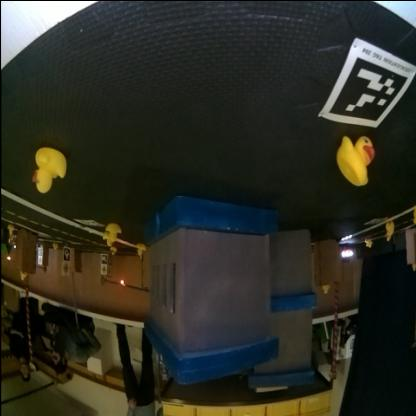Duckie: (336, 136, 374, 186), (34, 148, 65, 192), (106, 225, 120, 241), (386, 222, 394, 236), (102, 232, 110, 246), (136, 245, 145, 254), (322, 285, 330, 293), (365, 239, 371, 247), (110, 247, 116, 255), (8, 226, 14, 233), (21, 273, 26, 281), (52, 245, 58, 250)
Duckiebot: (342, 246, 353, 262)
Intersection sign: (100, 264, 107, 274), (62, 264, 68, 272)
QR code: (318, 39, 414, 127), (74, 219, 103, 227), (63, 248, 70, 260), (101, 256, 106, 263)
